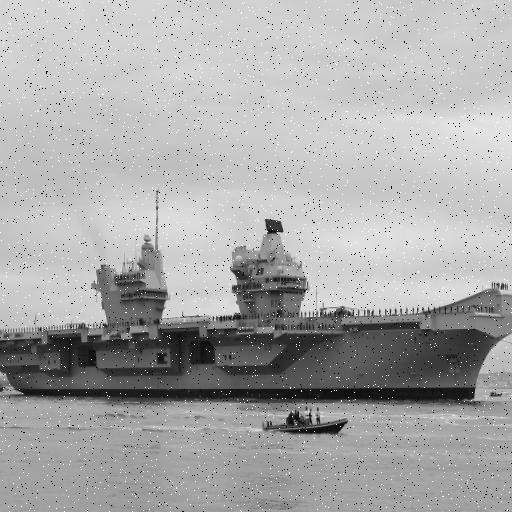Portanaves: (1, 201, 512, 407)
